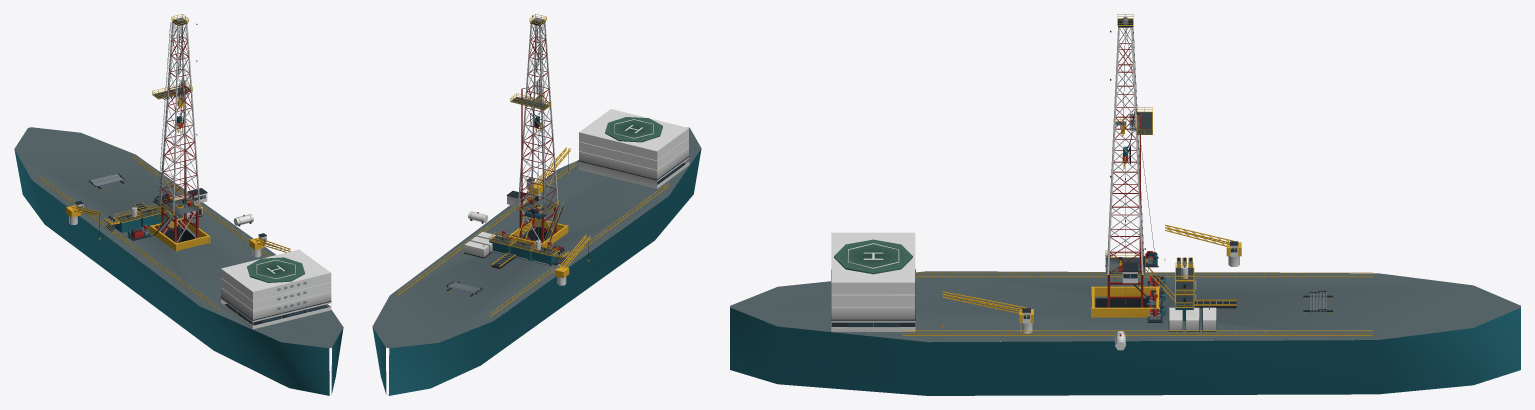
File: drillship_lodl.glb
3 views of the same model, side by side, from view 1: azimuth 30°, elevation 25°; view 2: azimuth 150°, elevation 25°; view 3: azimuth 270°, elevation 25° (orthographic). The views are drawn at different scales.
Parts seen in each view (by area): view 1: hull_surface_deck, hull_surface_blue, accommodation_surface_white, derrick_surface_white, helideck_surface_green, derrick_surface_red, deck_handrails_surface_yellow, moonpool_surface_yellow, accommodation_surface_dark, mud_tanks_surface_blue, ladder_surface_steel, accommodation_surface_glass (+5 smaller); view 2: hull_surface_deck, hull_surface_blue, accommodation_surface_white, derrick_surface_white, deck_handrails_surface_yellow, helideck_surface_green, derrick_surface_red, mud_tanks_surface_blue, moonpool_surface_yellow, generators_surface_white, ladder_surface_steel, mud_tanks_surface_yellow (+4 smaller); view 3: hull_surface_blue, hull_surface_deck, accommodation_surface_white, deck_handrails_surface_yellow, derrick_surface_white, helideck_surface_green, moonpool_surface_yellow, derrick_surface_red, generators_surface_white, accommodation_surface_dark, deck_crane_1_surface_yellow.
Part boxes in pixels (left/top/right/bottom): hull_surface_deck: left=14, top=127, right=343, bottom=348; hull_surface_blue: left=14, top=149, right=343, bottom=395; accommodation_surface_white: left=220, top=249, right=331, bottom=329; derrick_surface_white: left=159, top=22, right=200, bottom=215; helideck_surface_green: left=247, top=257, right=304, bottom=282; derrick_surface_red: left=161, top=24, right=198, bottom=213; deck_handrails_surface_yellow: left=40, top=154, right=270, bottom=310; moonpool_surface_yellow: left=149, top=217, right=210, bottom=251; accommodation_surface_dark: left=220, top=296, right=331, bottom=325; mud_tanks_surface_blue: left=115, top=209, right=179, bottom=232; ladder_surface_steel: left=157, top=22, right=172, bottom=205; accommodation_surface_glass: left=227, top=282, right=325, bottom=322; hull_surface_deck: left=372, top=127, right=701, bottom=348; hull_surface_blue: left=372, top=149, right=701, bottom=395; accommodation_surface_white: left=578, top=109, right=689, bottom=188; derrick_surface_white: left=517, top=22, right=558, bottom=214; deck_handrails_surface_yellow: left=398, top=161, right=668, bottom=317; helideck_surface_green: left=605, top=117, right=662, bottom=142; derrick_surface_red: left=519, top=24, right=557, bottom=213; mud_tanks_surface_blue: left=489, top=241, right=557, bottom=265; moonpool_surface_yellow: left=508, top=218, right=568, bottom=247; generators_surface_white: left=464, top=232, right=501, bottom=257; ladder_surface_steel: left=539, top=26, right=546, bottom=215; mud_tanks_surface_yellow: left=489, top=232, right=558, bottom=255; hull_surface_blue: left=730, top=307, right=1520, bottom=395; hull_surface_deck: left=730, top=271, right=1520, bottom=342; accommodation_surface_white: left=831, top=232, right=915, bottom=331; deck_handrails_surface_yellow: left=903, top=272, right=1372, bottom=335; derrick_surface_white: left=1107, top=27, right=1143, bottom=274; helideck_surface_green: left=834, top=239, right=912, bottom=274; moonpool_surface_yellow: left=1091, top=286, right=1159, bottom=317; derrick_surface_red: left=1109, top=27, right=1142, bottom=273; generators_surface_white: left=1169, top=307, right=1216, bottom=330; accommodation_surface_dark: left=831, top=269, right=915, bottom=326; deck_crane_1_surface_yellow: left=942, top=291, right=1033, bottom=327.
Size of the model in its own units: 42.9 by 78.58 by 160.
